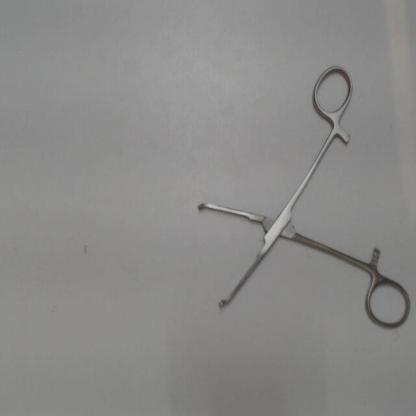Allis Tissue Forceps: (189, 56, 414, 336)
